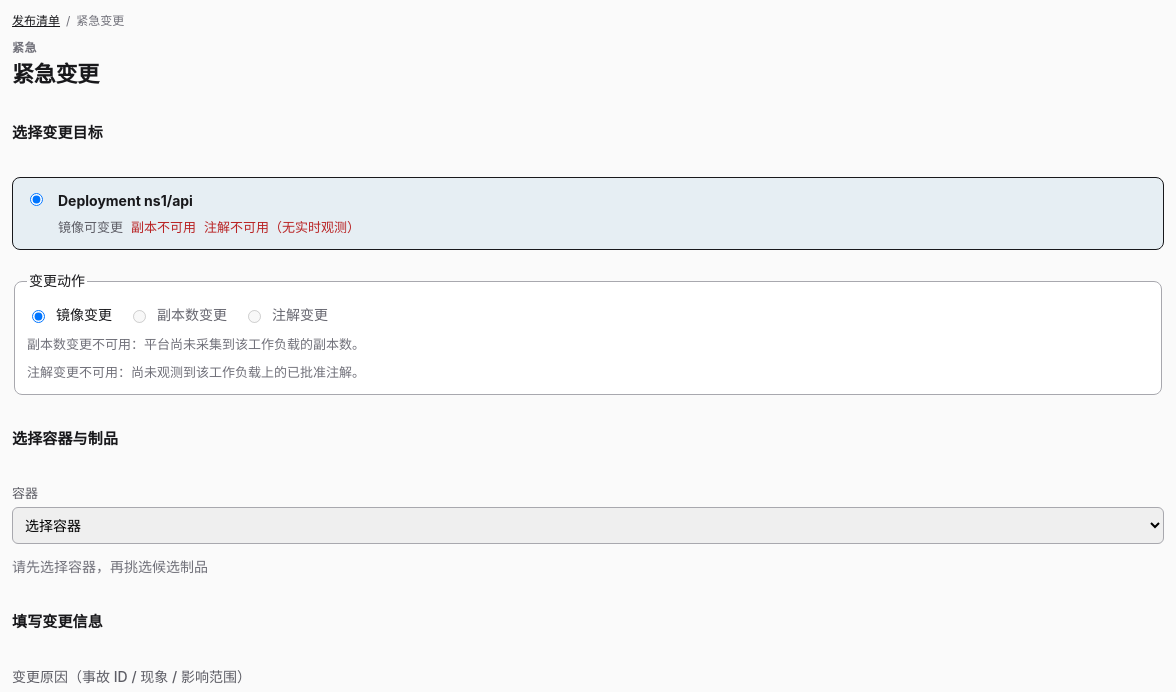
Test: EmergencyChangePage container picker › renders the picker for an observed target, cascading container → artifact and showing the current image
This screenshot has width=1176, height=692.
Expected: the element showing "容器 请先选择容器，再挑选候选制品" is shown, [12,483,1164,578]
Expected: the text "当前镜像" is not shown
Select "app" in the dropdown labelled "容器" at coordinates (588, 526), box [12,507,1164,544]
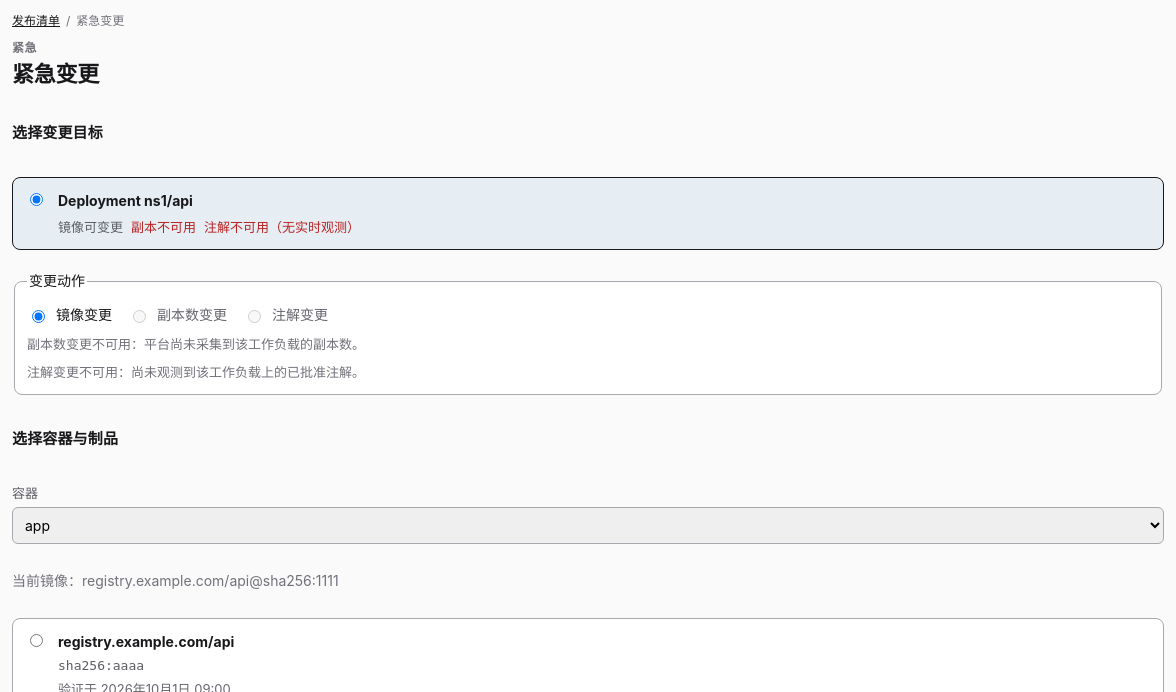
Now the text "当前镜像：registry.example.com/api@sha256:1111" is shown, box [12,572,339,589]
Now the text "sha256:aaaa" is shown, box [58,658,144,673]
Click the 5th radio button.
click(36, 640)  # box [30,634,43,647]
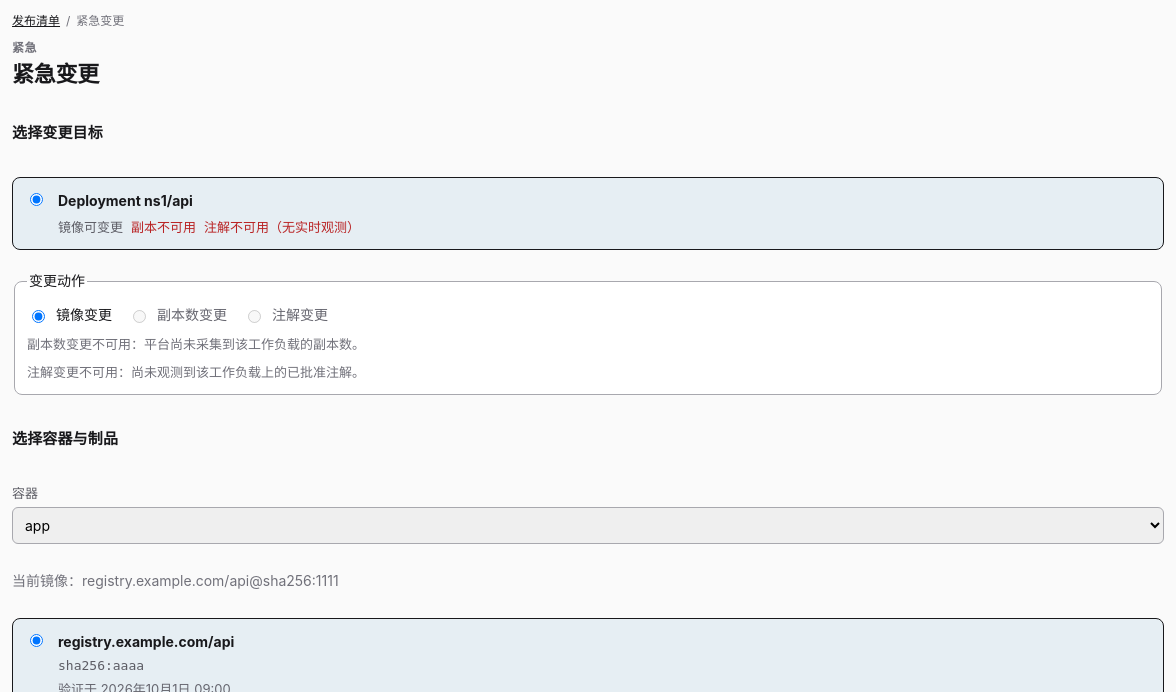
Select "sidecar" in the dropdown labelled "容器" at coordinates (588, 526), box [12,507,1164,544]
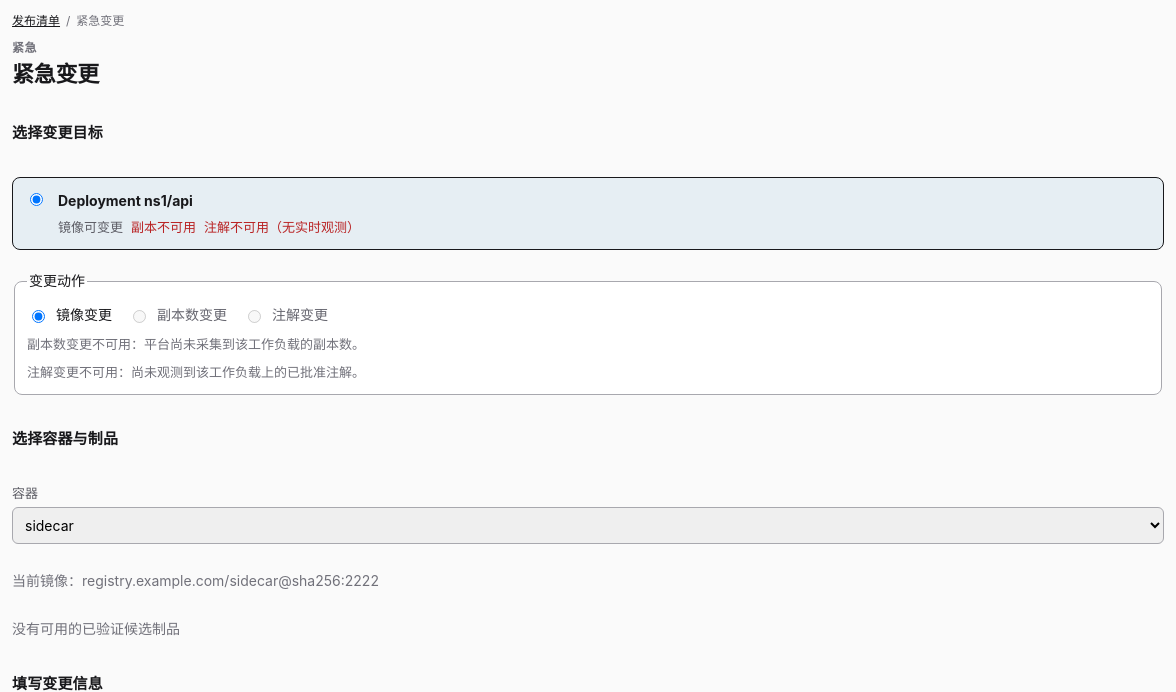
Now the text "当前镜像：registry.example.com/sidecar@sha256:2222" is shown, box [12,572,379,589]
Now the text "registry.example.com/api@sha256:1111" is gone
